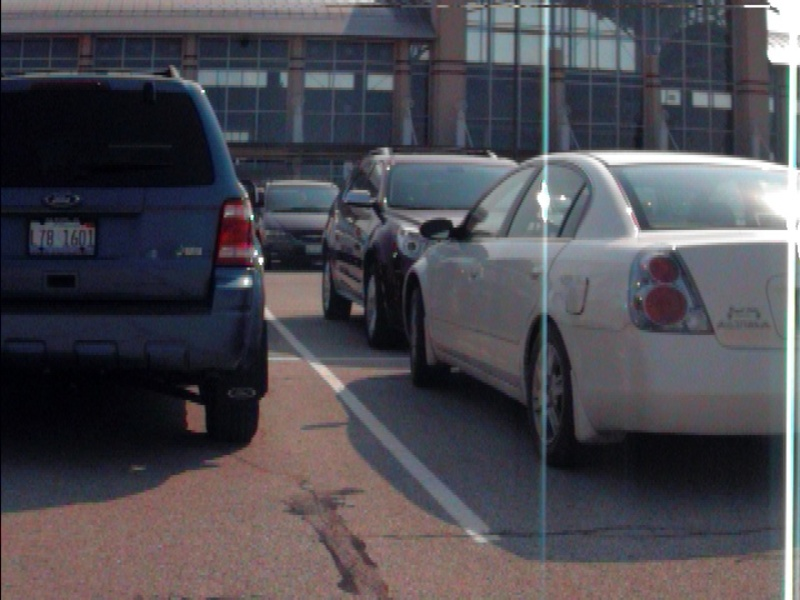licence plate: (26, 216, 98, 258)
